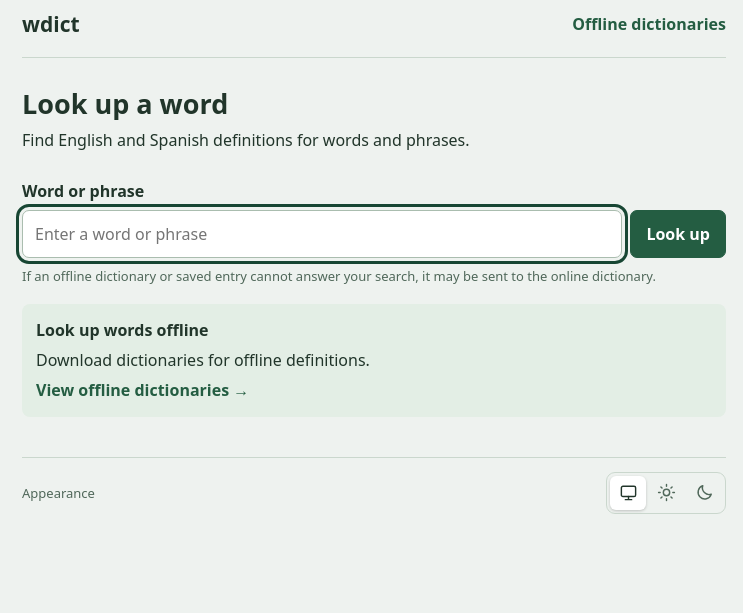
Test: lookup and offline dictionary UI › given_silent_502_and_spanish_result_when_looking_up_then_no_english_error_is_shown
Click the button "Look up" at point(678, 234), box x1=630 y1=210 x2=726 y2=258
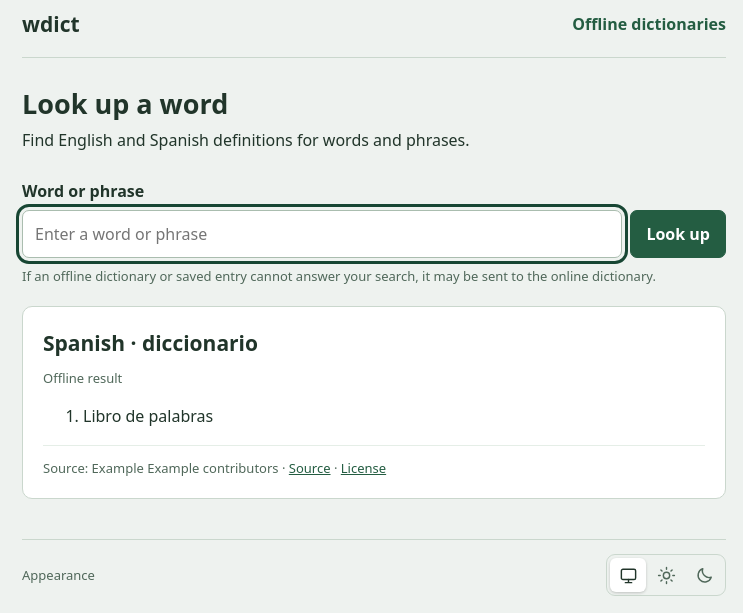
Check: the list item "Libro de palabras" is shown, box x1=83 y1=405 x2=213 y2=427
